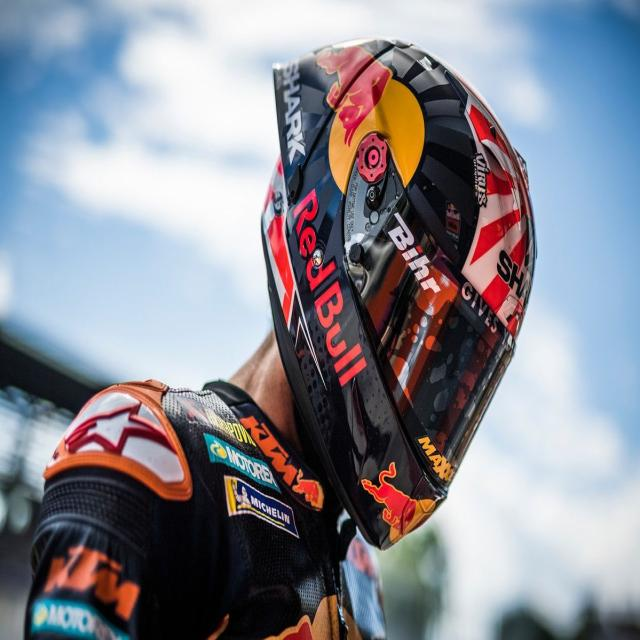Helm: (254, 36, 542, 569)
